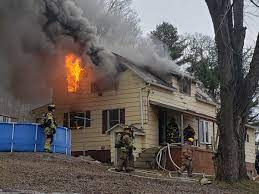smoke: (1, 1, 192, 94)
